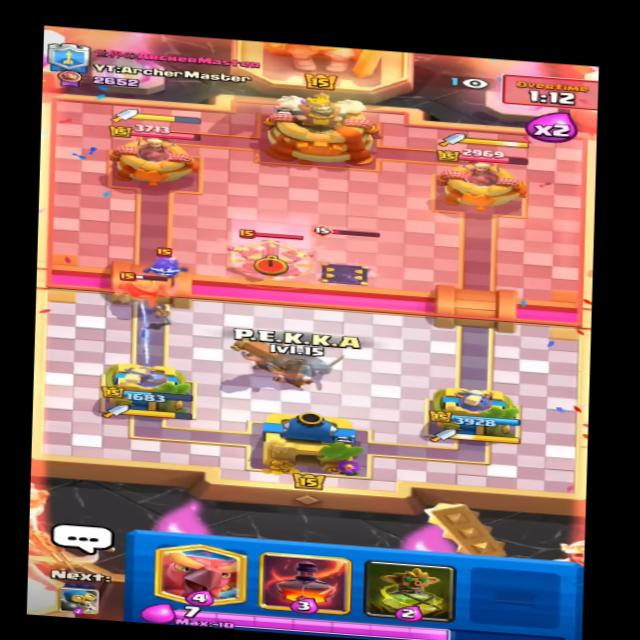electro-spirit: (138, 244, 196, 285)
evo-tesla-closed: (300, 226, 387, 291)
knight: (115, 271, 176, 311)
x-bow: (223, 226, 313, 283)
